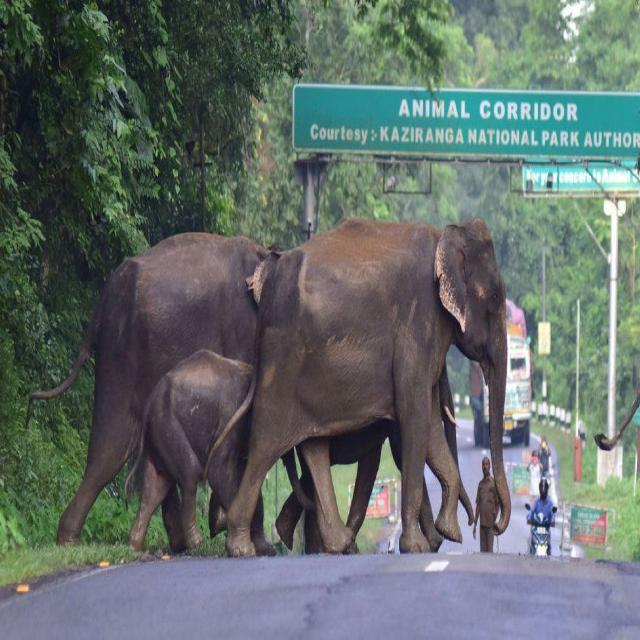Elephant: (221, 206, 516, 564), (22, 234, 261, 546), (133, 350, 265, 569)
